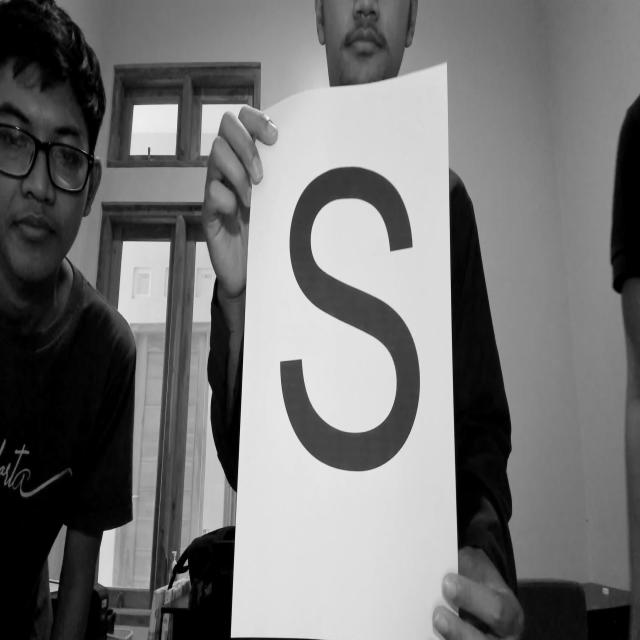s: (269, 140, 439, 490)
